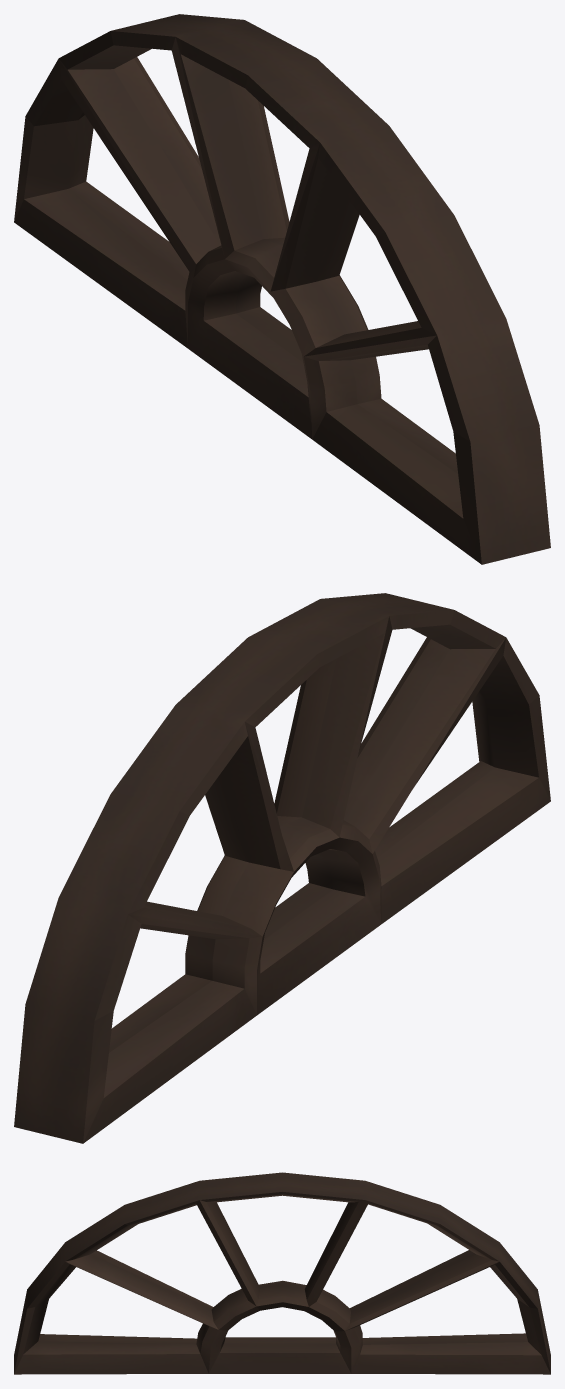
Rendered from FoyerWindow.fbx.
3 renders of one model, top to bottom at view 1: azimuth 30°, elevation 25°; view 2: azimuth 150°, elevation 25°; view 3: azimuth 270°, elevation 25°, orthographic. The views are drawn at different scales.
Visible parts, largest first — view 1: polySurface34; view 2: polySurface34; view 3: polySurface34.
Boxes of the visible parts, x1,y1,x2,y2 form: polySurface34: (14,14,550,564); polySurface34: (14,593,550,1143); polySurface34: (14,1172,550,1374).
Bounding box in the file's own units: 6.52 × 26.62 × 70.92.
